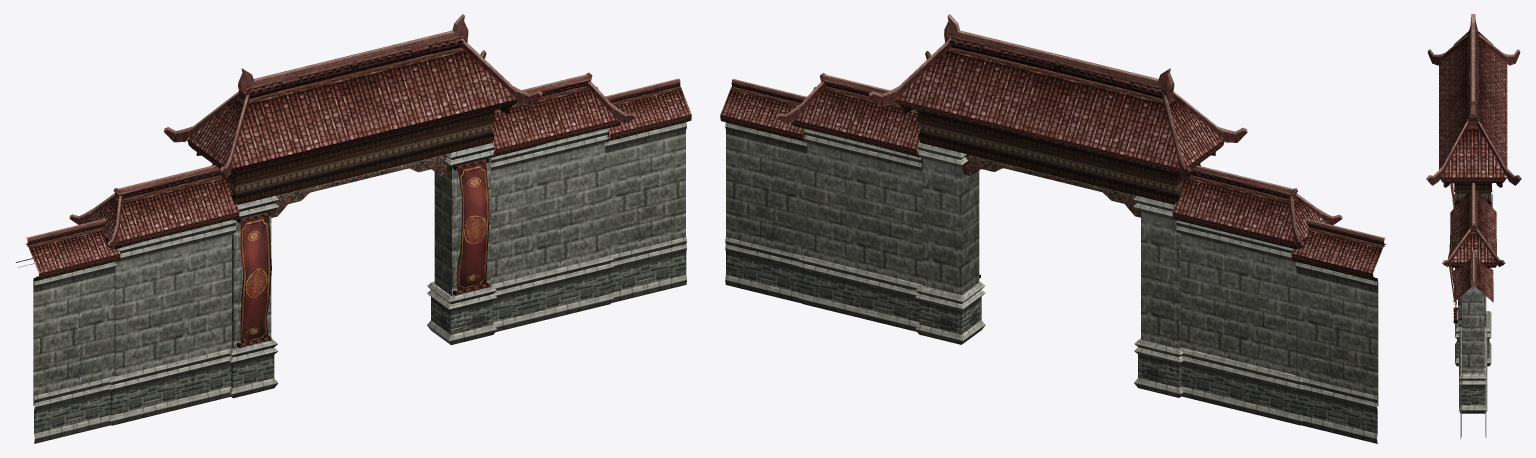
The model's file is a1s-002-inwall-01.glb.
3 renders of one model, left to right at view 1: azimuth 30°, elevation 25°; view 2: azimuth 150°, elevation 25°; view 3: azimuth 270°, elevation 25°, orthographic. The views are drawn at different scales.
Visible parts, largest first — view 1: Mesh04; view 2: Mesh04; view 3: Mesh04.
Part boxes in pixels (<box>): Mesh04: <box>16,14,691,443</box>; Mesh04: <box>720,14,1386,443</box>; Mesh04: <box>1426,14,1521,438</box>.
Bounding box in the file's own units: 26.85 × 12.47 × 4.19.
2 materials, 2 textured.
